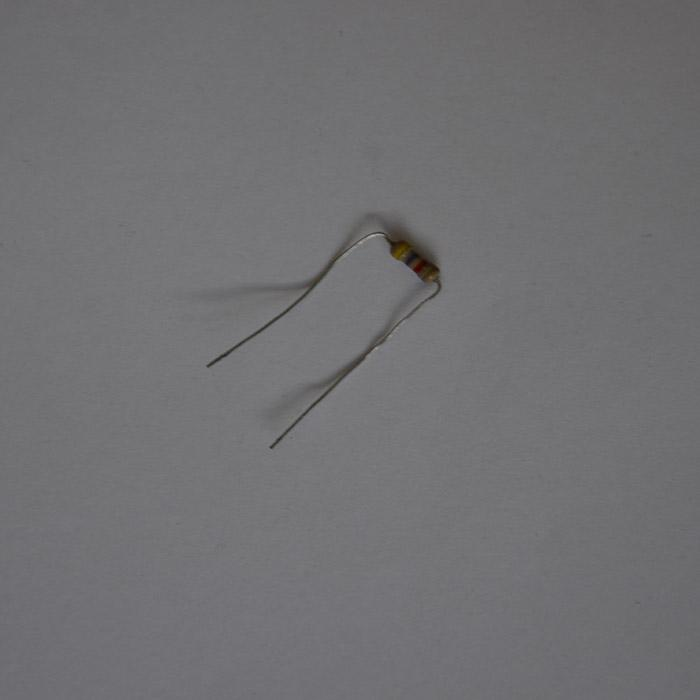resistor: (386, 237, 443, 287)
